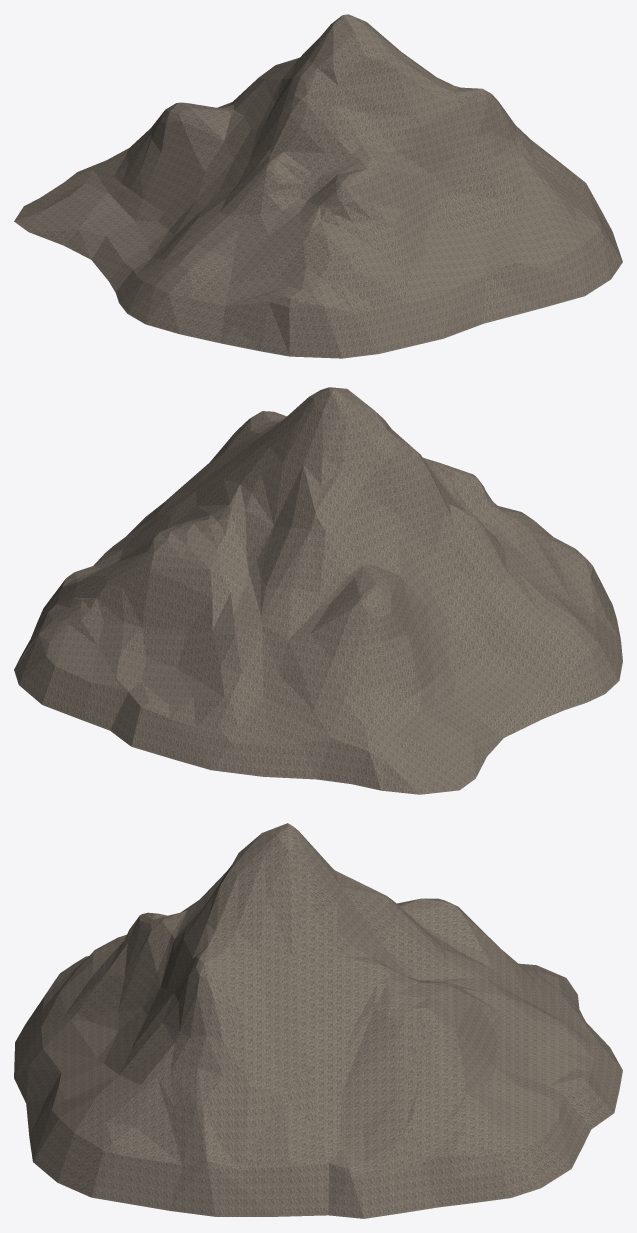
File: synty-terrain-mountain-01.gltf
3 renders of one model, top to bottom at view 1: azimuth 30°, elevation 25°; view 2: azimuth 150°, elevation 25°; view 3: azimuth 270°, elevation 25°, orthographic. The views are drawn at different scales.
Visible parts, largest first — view 1: SM_Terrain_Mountain_01; view 2: SM_Terrain_Mountain_01; view 3: SM_Terrain_Mountain_01.
Boxes of the visible parts, x1,y1,x2,y2 form: SM_Terrain_Mountain_01: (14,14,622,358); SM_Terrain_Mountain_01: (14,387,622,794); SM_Terrain_Mountain_01: (14,823,622,1218).
Size of the model in its own units: 49.31 by 23.61 by 48.97.
Materials: 1 (1 with a texture image).
